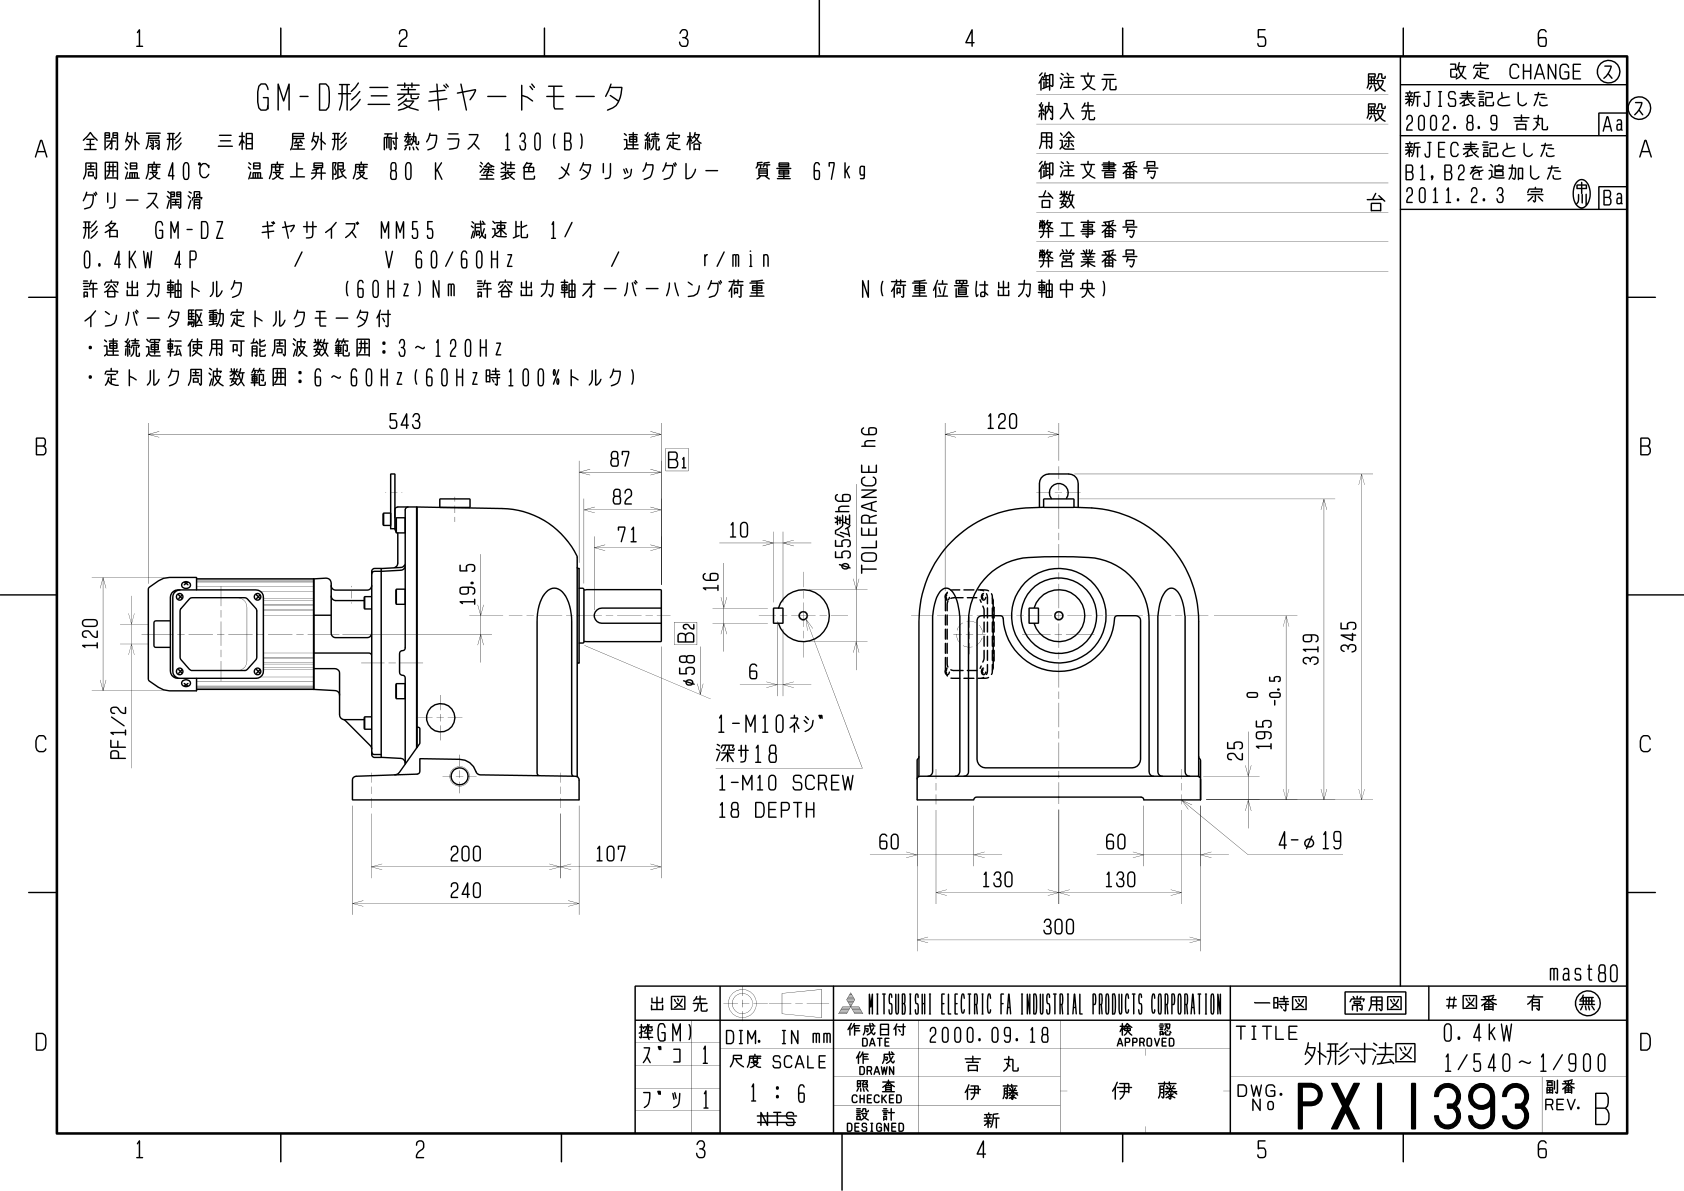GM_D_インバータ屋外_三相_脚: (63, 396, 1375, 955)
